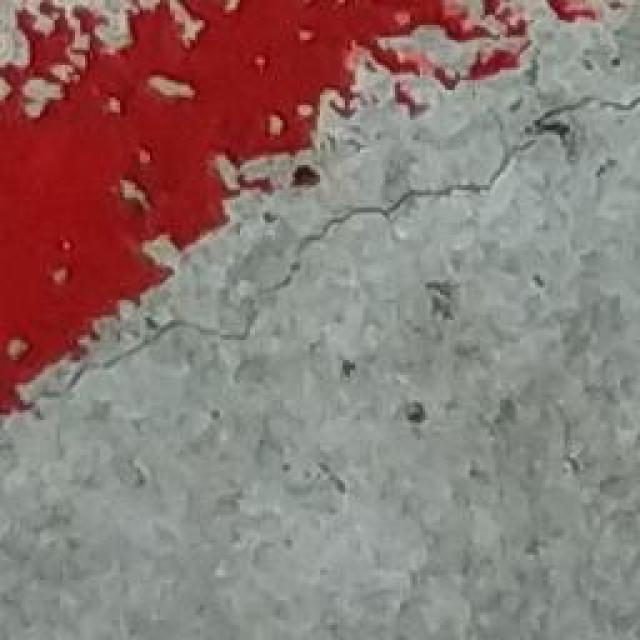Diagonal: (15, 78, 640, 404)
